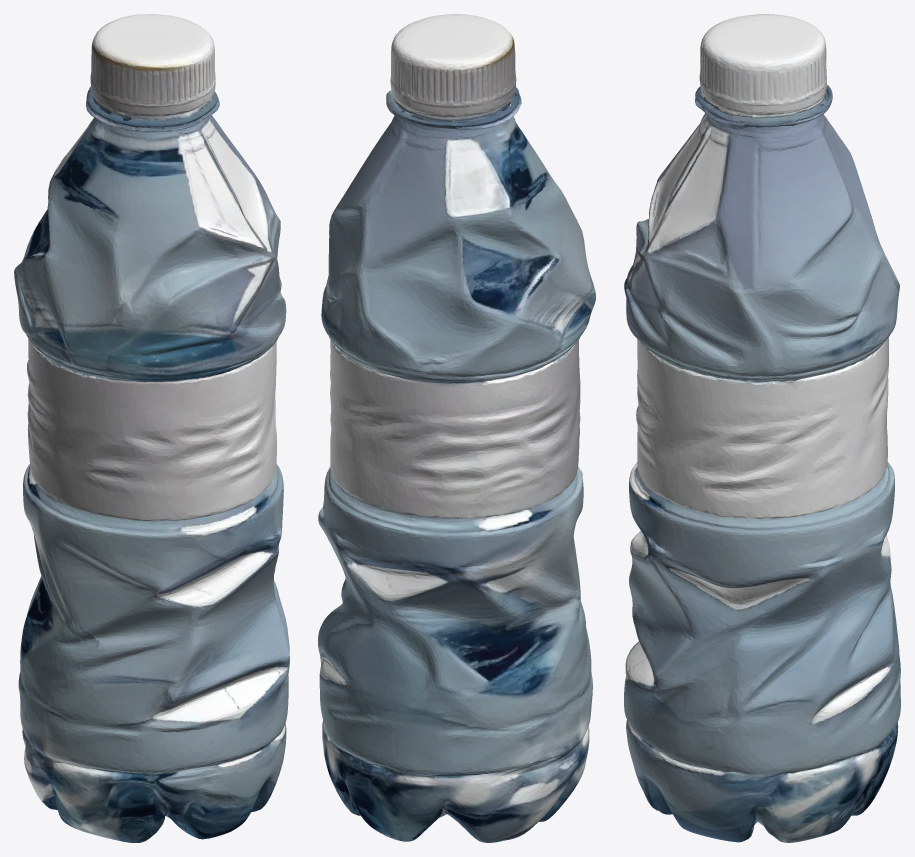
The model's file is BotolPlastik.glb.
3 views of the same model, side by side, from view 1: azimuth 30°, elevation 25°; view 2: azimuth 150°, elevation 25°; view 3: azimuth 270°, elevation 25° (orthographic).
Parts seen in each view (by area): view 1: geometry_0; view 2: geometry_0; view 3: geometry_0.
Boxes of the visible parts, <box> form: geometry_0: <box>14,14,289,842</box>; geometry_0: <box>318,14,595,842</box>; geometry_0: <box>624,14,900,842</box>.
Size of the model in its own units: 0.639 by 1.99 by 0.6506.
1 material, 1 textured.
